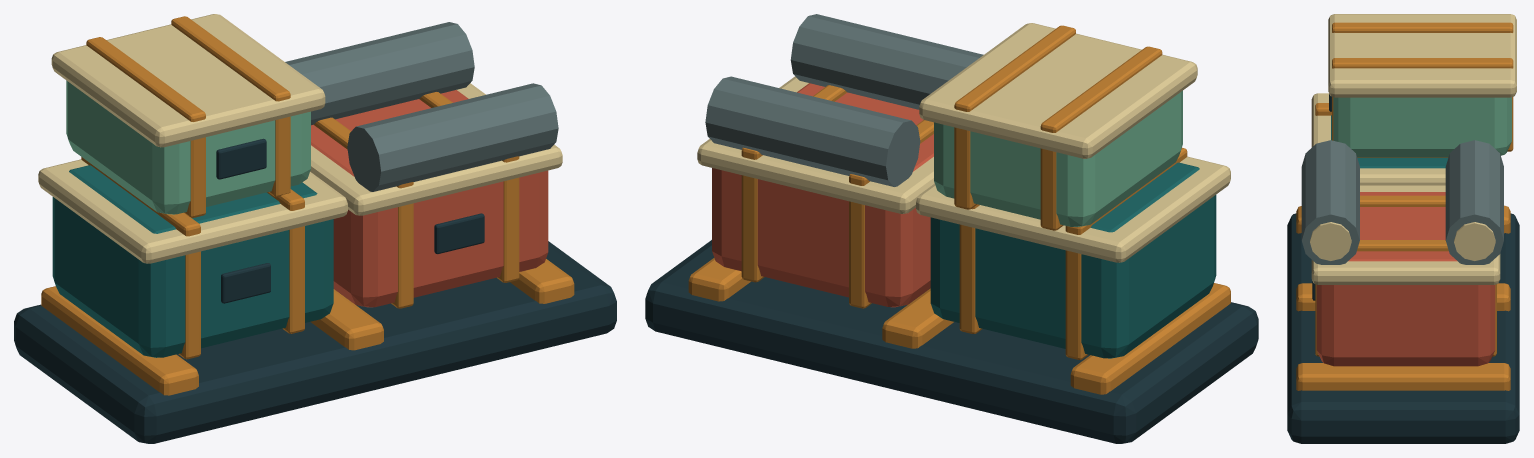
File: PL_BinDepot.glb
3 renders of one model, left to right at view 1: azimuth 30°, elevation 25°; view 2: azimuth 150°, elevation 25°; view 3: azimuth 270°, elevation 25°, orthographic. The views are drawn at different scales.
Visible parts, largest first — view 1: ROOT_BinDepot_Surface; view 2: ROOT_BinDepot_Surface; view 3: ROOT_BinDepot_Surface.
Boxes of the visible parts, x1=… form: ROOT_BinDepot_Surface: x1=14, y1=14, x2=616, y2=443; ROOT_BinDepot_Surface: x1=645, y1=14, x2=1258, y2=443; ROOT_BinDepot_Surface: x1=1287, y1=14, x2=1519, y2=443.
Bounding box in the file's own units: 1.87 × 1.11 × 0.91.
